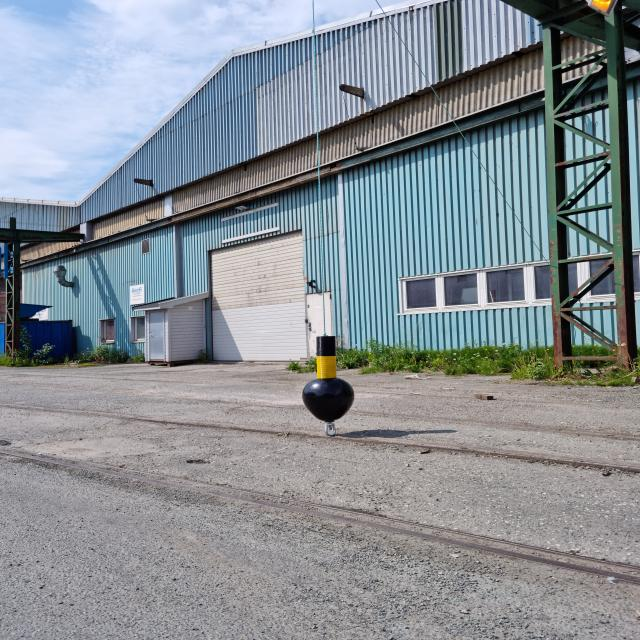east: (303, 336, 354, 420)
